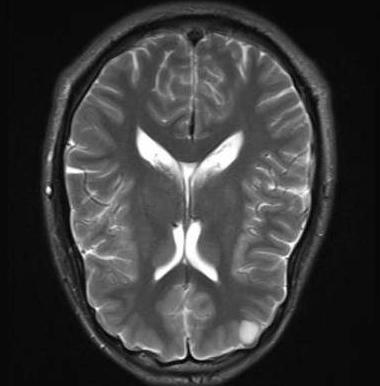Normal_Brain: (14, 1, 327, 386)
